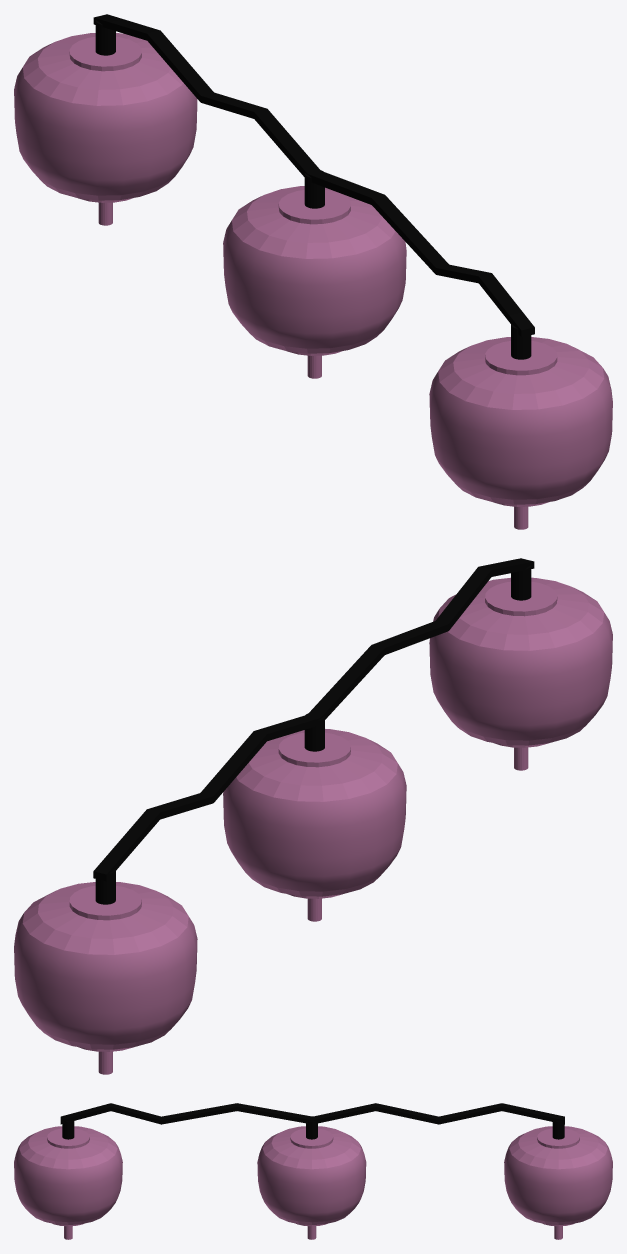
Rendered from Hanging_Lanterns.fbx.
3 views of the same model, one above another, from view 1: azimuth 30°, elevation 25°; view 2: azimuth 150°, elevation 25°; view 3: azimuth 270°, elevation 25° (orthographic). The views are drawn at different scales.
Parts seen in each view (by area): view 1: Hanging_Lanterns; view 2: Hanging_Lanterns; view 3: Hanging_Lanterns.
Part boxes in pixels (bbox=[...]): Hanging_Lanterns: bbox=[14, 14, 612, 529]; Hanging_Lanterns: bbox=[14, 558, 612, 1074]; Hanging_Lanterns: bbox=[14, 1103, 612, 1239].
Bounding box in the file's own units: 0.4825 × 0.6506 × 2.66.
